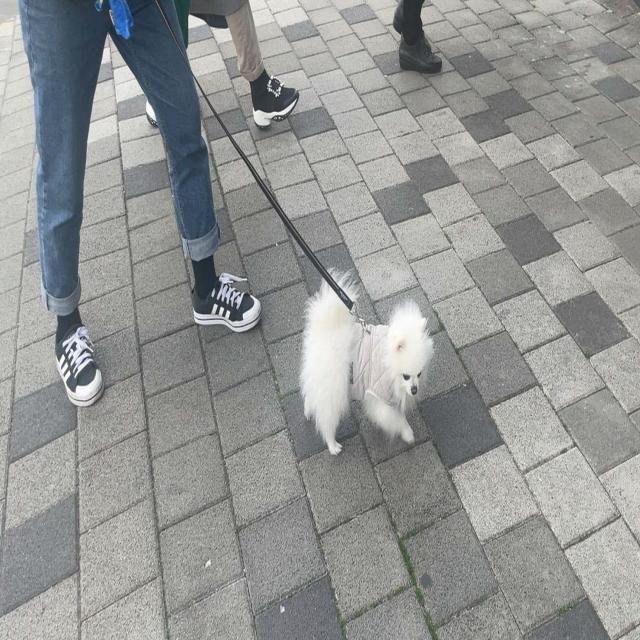Leashed_Dog: (135, 0, 436, 455)
